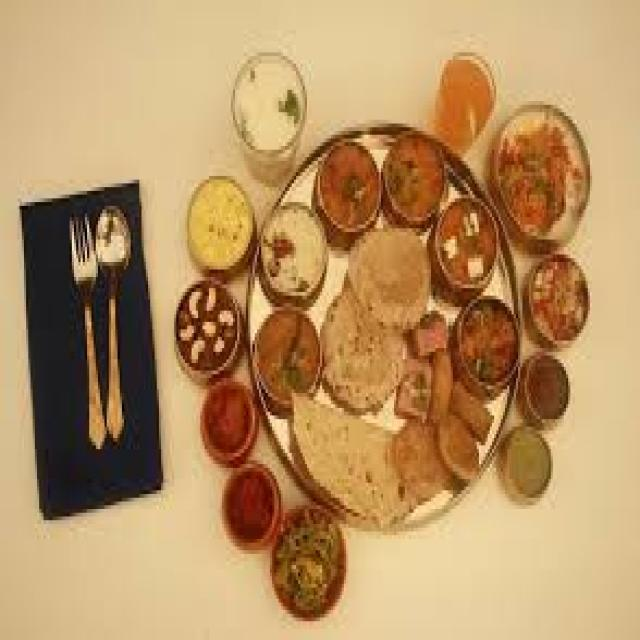dal: (176, 166, 256, 272)
papad: (286, 398, 430, 512)
roti: (335, 234, 423, 397)
sambar-rasam: (310, 140, 390, 237)
sweet: (437, 391, 491, 483)
veg: (382, 132, 452, 228)
veg-fry: (452, 297, 526, 401)
